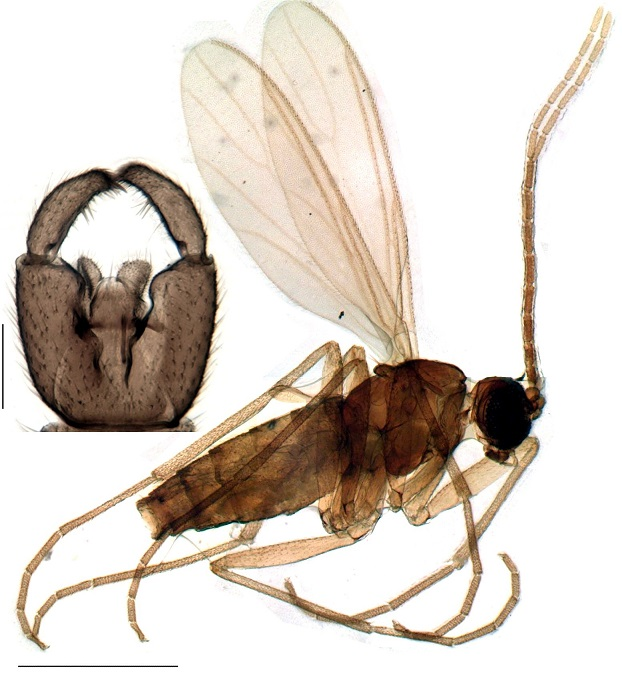phorid fly: (17, 13, 580, 668)
